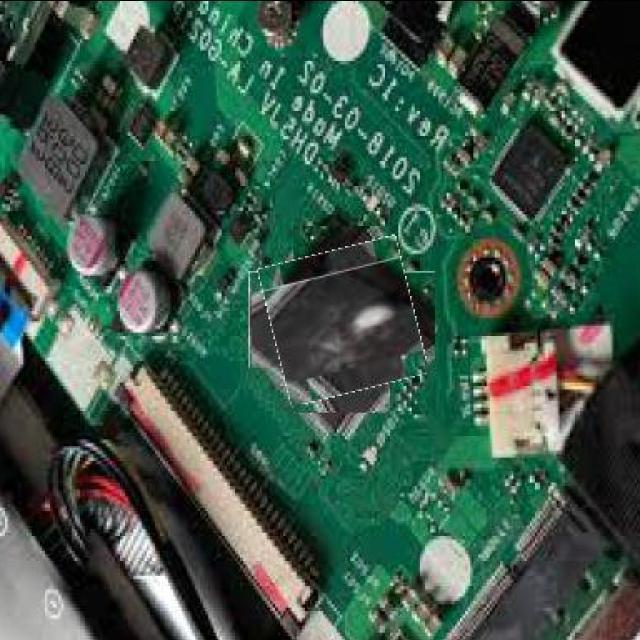Burn: (264, 241, 420, 397)
